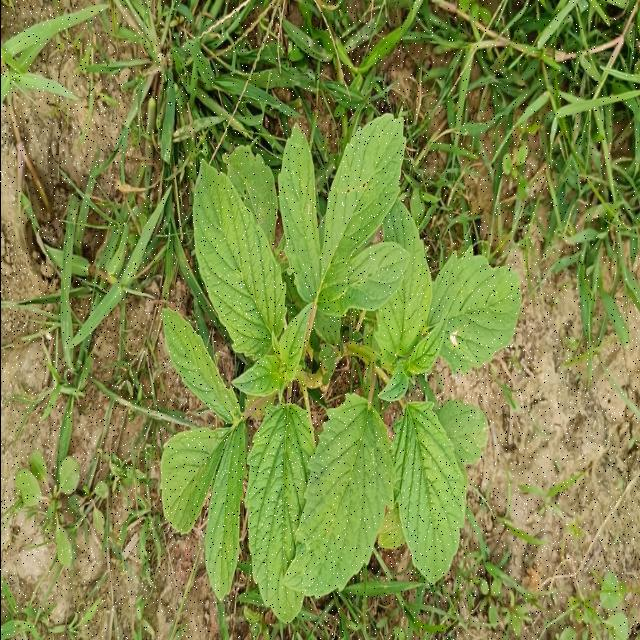plant: (160, 114, 520, 623)
